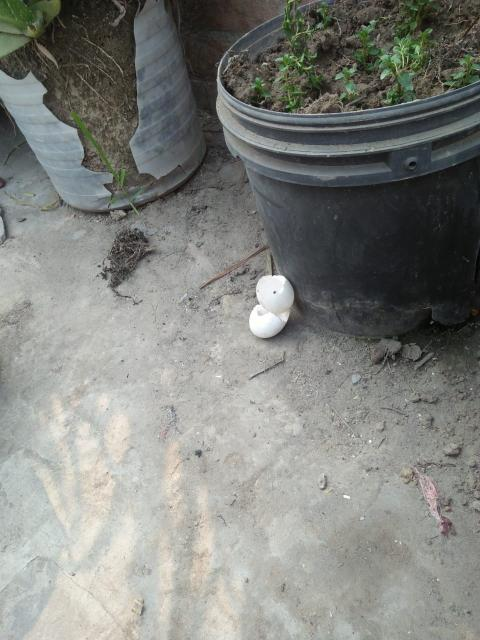Roto: (256, 273, 295, 311), (249, 305, 290, 338)
